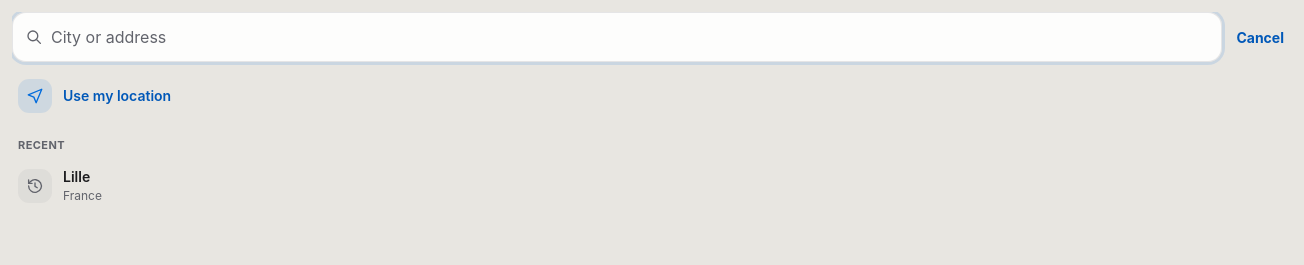
Scenario: typing › empties the field with the clear button and brings the suggestions back
Type "Paradeplatz" into the dropdown labelled "City or address".
click(634, 37); type("Paradeplatz")  # box [51,13,1216,61]
Wait 350 ms
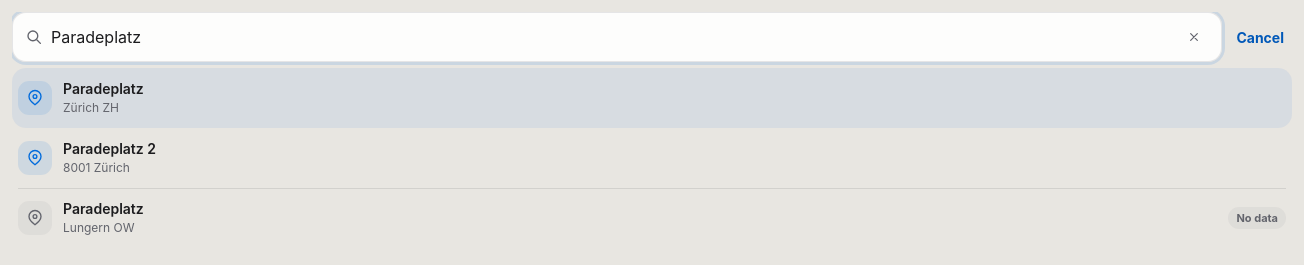
expect the number of options is 3: met, box [12,68,1292,128]; [12,128,1292,188]; [12,188,1292,248]
Click the button named "Clear search".
click(1194, 37)  # box [1172,15,1216,59]
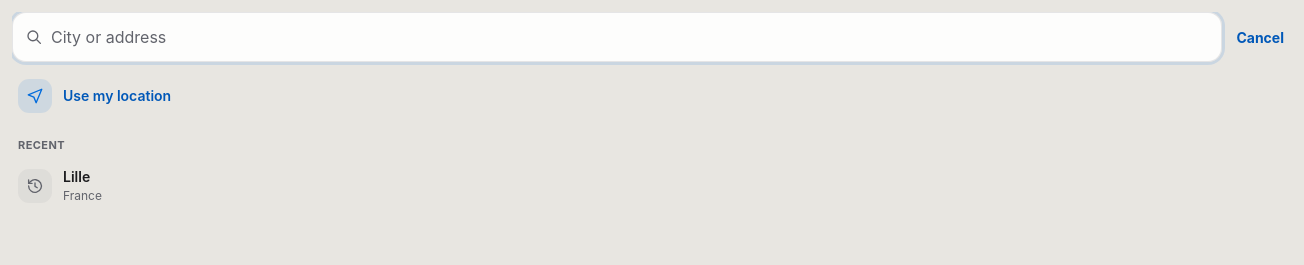
expect the dropdown labelled "City or address" is empty: met, box [51,13,1216,61]
expect the option is gone: met
expect the element named "Recent" is shown: met, box [12,158,1292,214]
